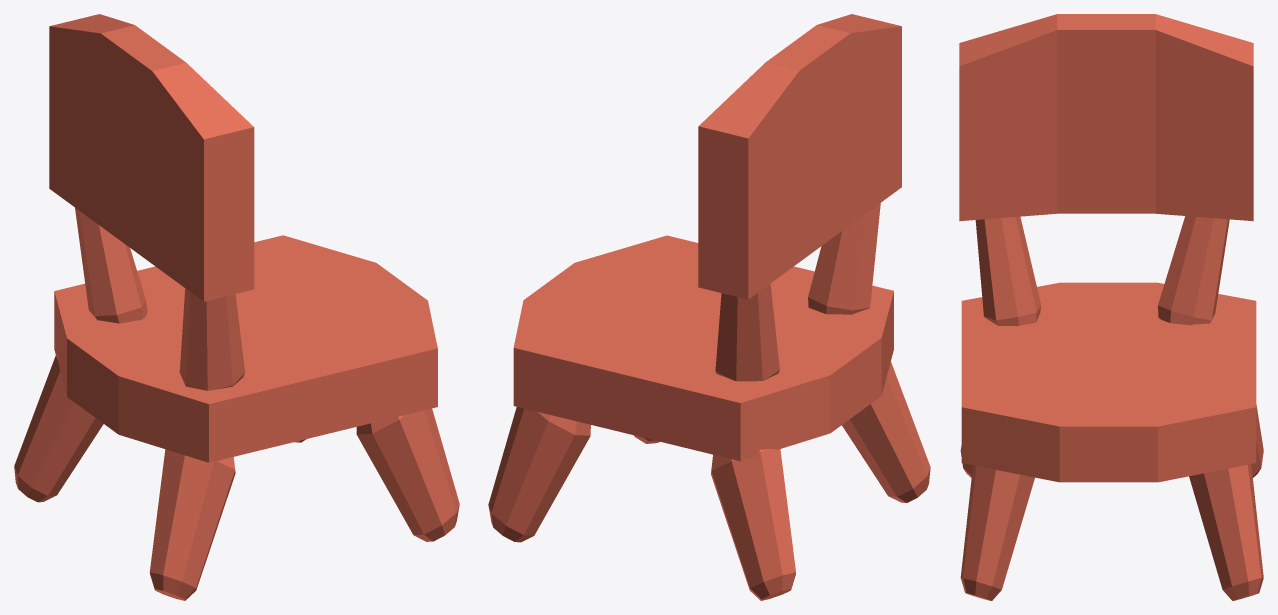
Rendered from chair.fbx.
3 views of the same model, side by side, from view 1: azimuth 30°, elevation 25°; view 2: azimuth 150°, elevation 25°; view 3: azimuth 270°, elevation 25° (orthographic). The views are drawn at different scales.
Visible parts, largest first — view 1: chair; view 2: chair; view 3: chair.
Part boxes in pixels (x1,y1,x2,y2): chair: (14, 14, 459, 600); chair: (488, 14, 930, 600); chair: (959, 14, 1263, 600).
Size of the model in its own units: 237 by 356 by 207.
